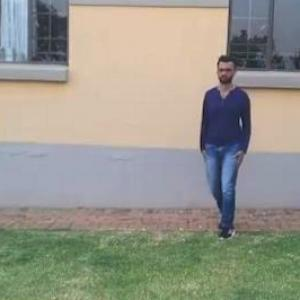follow: (198, 54, 250, 232)
